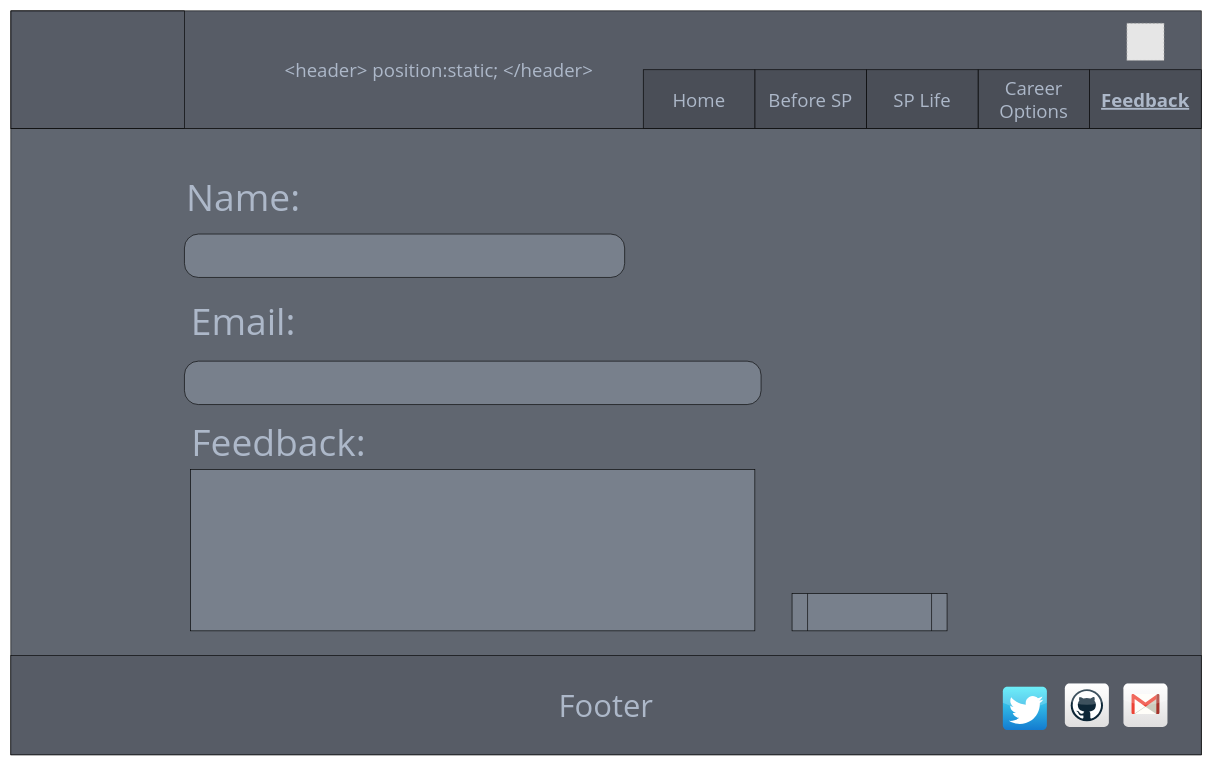
Image size: 1212x766. Some labels were removed from this diagram. Grey dashed boxes stand in for pictures. The centre of each missing label's shape, as x and y in pixels:
"LOGO" goes at (97,69).
"loremipsum@test.com" goes at (472,383).
"Submit" goes at (869,612).
